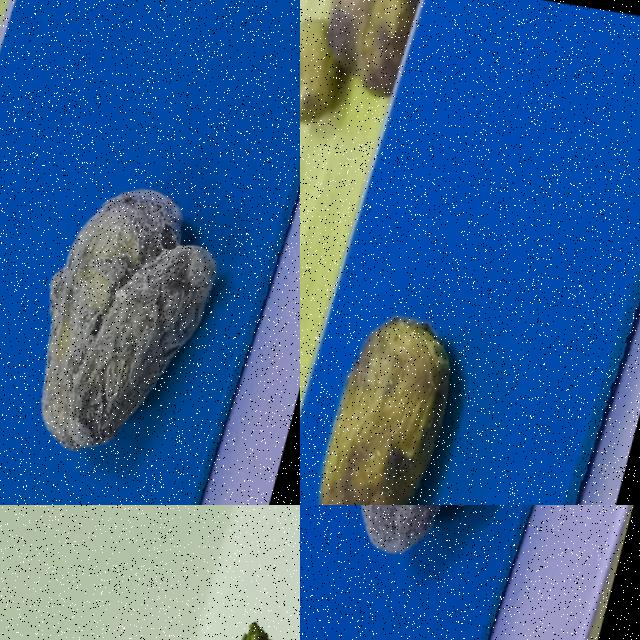Agglomerated_cocoabeans: (0, 94, 299, 504), (300, 505, 580, 639)
Fine_cocoabeans: (300, 263, 527, 504)
Flat_cocoabeans: (127, 505, 299, 639)
